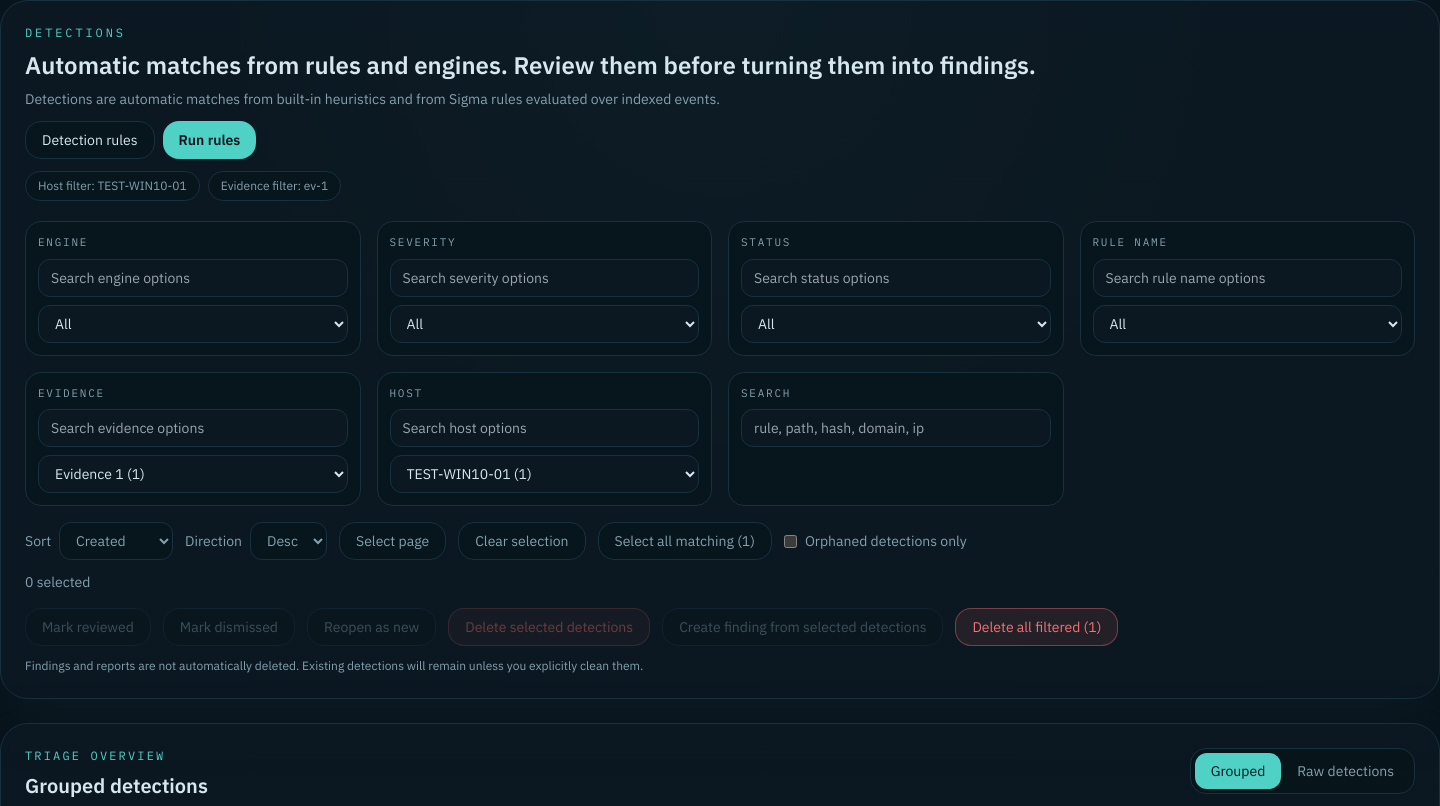
Detections › renders detections with rule and IOC context
This screenshot has width=1440, height=806.
Expected: the heading "Automatic matches from rules and engines" is shown, left=25, top=49, right=1036, bottom=81
Click the button "Raw detections" at (1346, 771), box left=1281, top=753, right=1410, bottom=789
(page scrolled)
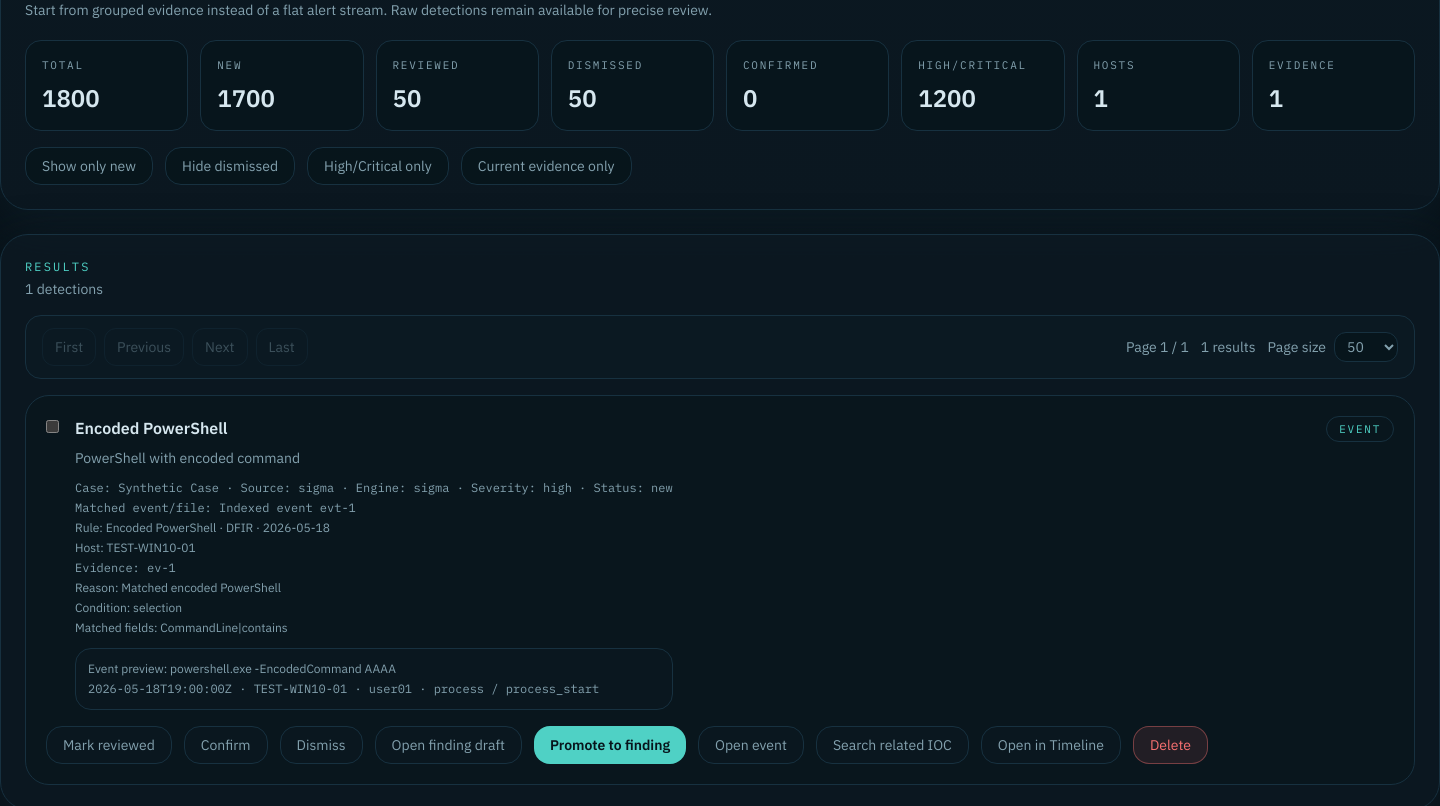
Now the text "PowerShell with encoded command" is shown, box left=75, top=448, right=300, bottom=466
Now the text "Condition: selection" is shown, box left=75, top=600, right=182, bottom=614
Now the text "Matched fields: CommandLine|contains" is shown, box left=75, top=620, right=288, bottom=634
